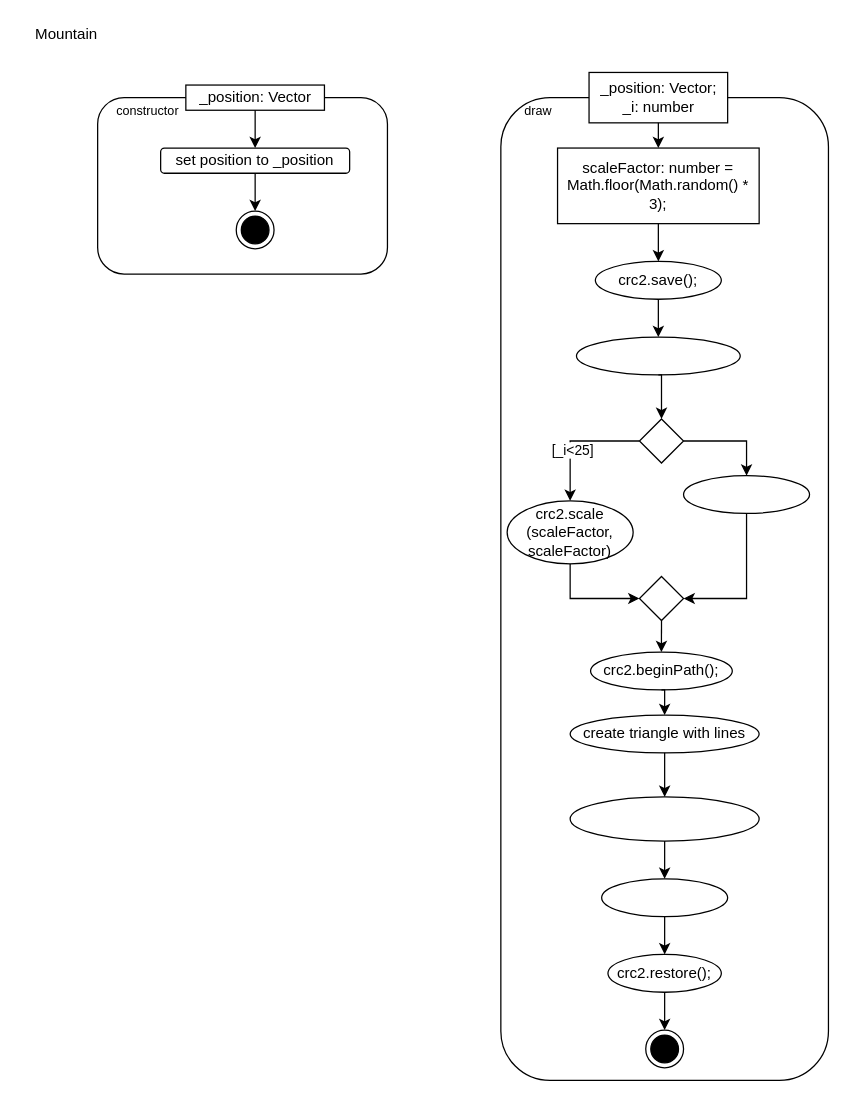
Image size: 851x1103. Some labels were removed from this diagram. Each missing label, with the centre of its shape:
"crc2.fill() in grey" goes at (664,897).
"crc2.scale(1, 1)" goes at (746,493).
"crc2.stroke() in dark-grey" goes at (664,818).
"crc2.translate(_x, _y);" goes at (657,355).
